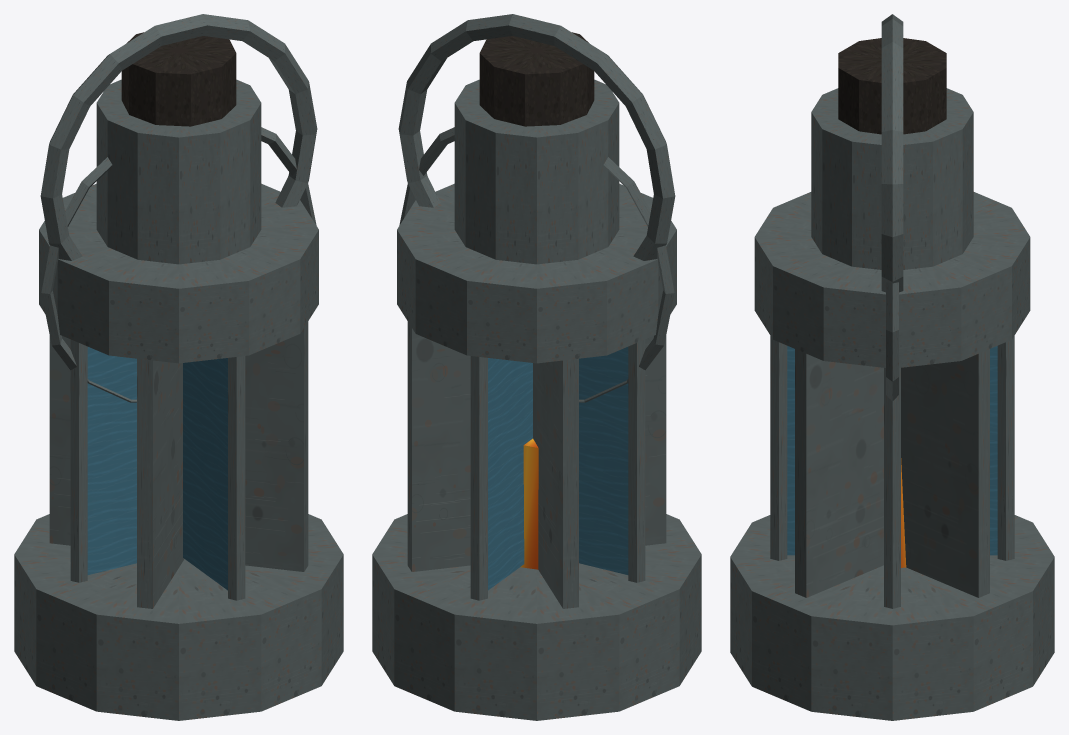
Rendered from pr-008_oil_lantern__lit.obj.
3 views of the same model, side by side, from view 1: azimuth 30°, elevation 25°; view 2: azimuth 150°, elevation 25°; view 3: azimuth 270°, elevation 25° (orthographic).
Visible parts, largest first — view 1: pr-008_oil_lantern__lit; view 2: pr-008_oil_lantern__lit; view 3: pr-008_oil_lantern__lit.
Boxes of the visible parts, x1,y1,x2,y2 form: pr-008_oil_lantern__lit: (14,14,343,720); pr-008_oil_lantern__lit: (372,14,701,720); pr-008_oil_lantern__lit: (730,14,1054,720).
Bounding box in the file's own units: 0.1797 × 0.38 × 0.1797.
4 materials, 4 textured.
